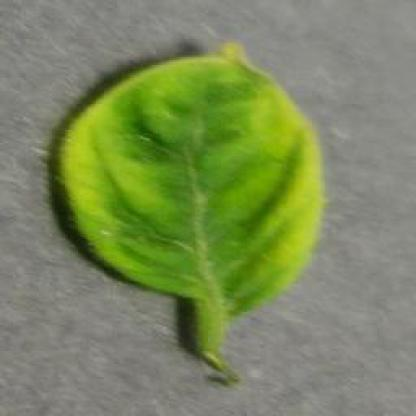bad leaf: (41, 40, 345, 380)
